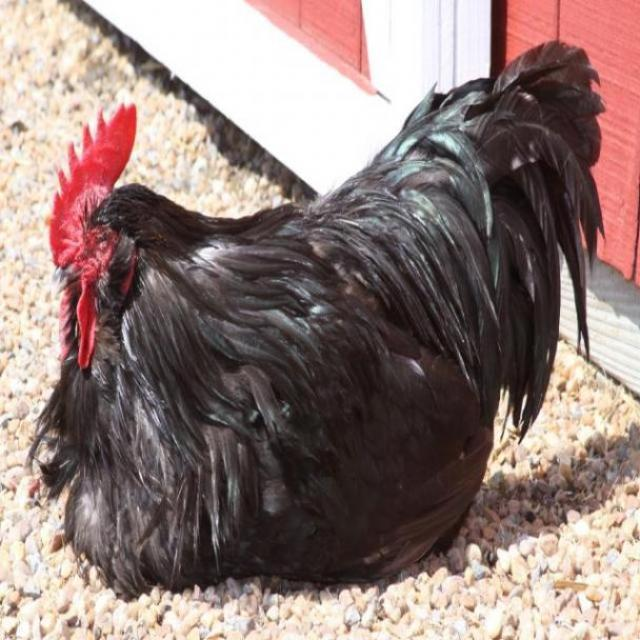Chicken: (26, 33, 607, 590)
